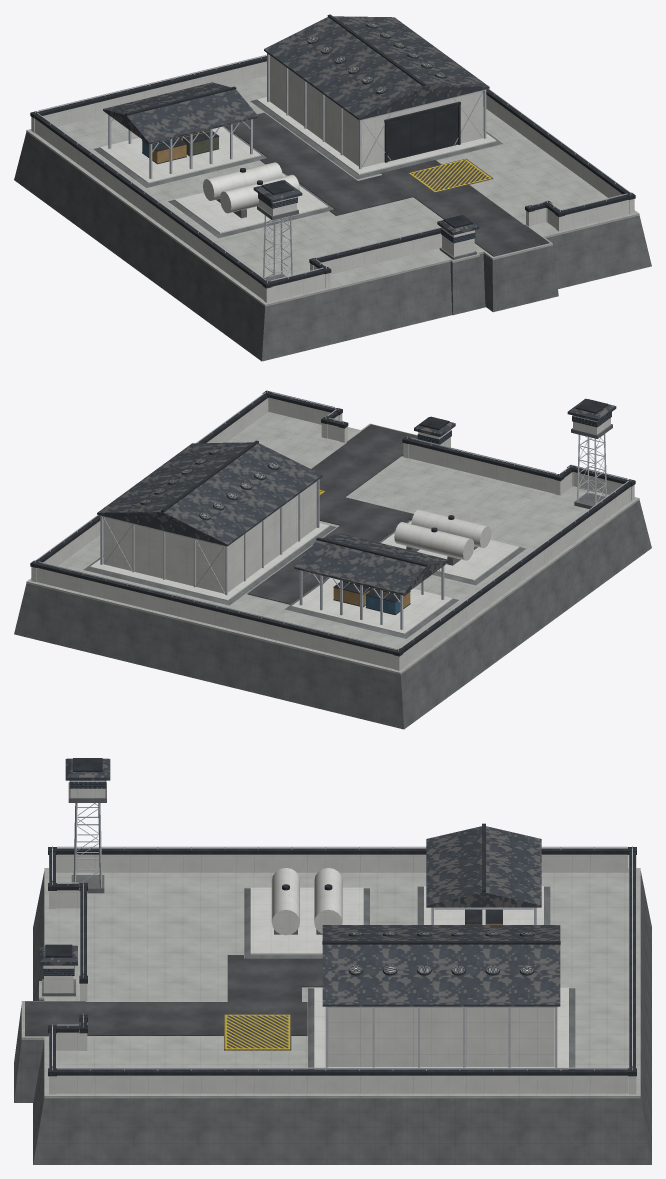
The model's file is logistics_camp.glb.
The picture shows the model from 3 angles, top to bottom: view 1: azimuth 30°, elevation 25°; view 2: azimuth 150°, elevation 25°; view 3: azimuth 270°, elevation 25°; orthographic projection. The views are drawn at different scales.
Visible parts, largest first — view 1: LOG_L1_ConcDark, LOG_L1_ConcLight, LOG_L1_ConcMid, LOG_L1_RoofCorr, LOG_L1_Asphalt, LOG_L1_SteelDark, LOG_L1_SteelTruss, LOG_L1_DoorCorr, LOG_L1_HatchZone, LOG_L1_RoofVent; view 2: LOG_L1_ConcDark, LOG_L1_ConcLight, LOG_L1_ConcMid, LOG_L1_RoofCorr, LOG_L1_SteelDark, LOG_L1_Asphalt, LOG_L1_SteelTruss, LOG_L1_RoofVent; view 3: LOG_L1_ConcMid, LOG_L1_ConcDark, LOG_L1_ConcLight, LOG_L1_RoofCorr, LOG_L1_SteelDark, LOG_L1_Asphalt, LOG_L1_SteelTruss, LOG_L1_HatchZone, LOG_L1_RoofVent.
Part boxes in pixels (<box>): LOG_L1_ConcDark: <box>14,99,651,361</box>; LOG_L1_ConcLight: <box>31,55,634,302</box>; LOG_L1_ConcMid: <box>26,75,639,306</box>; LOG_L1_RoofCorr: <box>103,16,489,235</box>; LOG_L1_Asphalt: <box>224,112,549,256</box>; LOG_L1_SteelDark: <box>30,14,635,288</box>; LOG_L1_SteelTruss: <box>34,53,631,283</box>; LOG_L1_DoorCorr: <box>387,105,457,161</box>; LOG_L1_HatchZone: <box>408,158,493,192</box>; LOG_L1_RoofVent: <box>307,23,445,92</box>; LOG_L1_ConcDark: <box>14,424,651,729</box>; LOG_L1_ConcLight: <box>31,397,634,670</box>; LOG_L1_ConcMid: <box>26,412,639,674</box>; LOG_L1_RoofCorr: <box>97,398,616,595</box>; LOG_L1_SteelDark: <box>30,390,635,656</box>; LOG_L1_Asphalt: <box>247,424,417,604</box>; LOG_L1_SteelTruss: <box>34,390,631,651</box>; LOG_L1_RoofVent: <box>140,449,278,518</box>; LOG_L1_ConcMid: <box>21,868,640,1098</box>; LOG_L1_ConcDark: <box>14,782,651,1164</box>; LOG_L1_ConcLight: <box>43,780,636,1094</box>; LOG_L1_RoofCorr: <box>39,758,560,1006</box>; LOG_L1_SteelDark: <box>45,758,636,1076</box>; LOG_L1_Asphalt: <box>25,955,322,1036</box>; LOG_L1_SteelTruss: <box>52,803,632,1070</box>; LOG_L1_HatchZone: <box>224,1014,291,1050</box>; LOG_L1_RoofVent: <box>349,932,533,973</box>.
Size of the model in its own units: 79.5 by 29.04 by 90.2.
14 materials, 14 textured.
